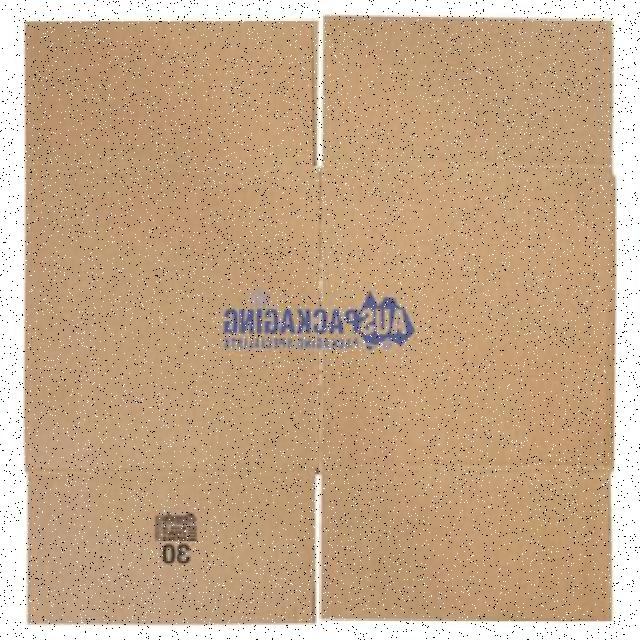normal: (331, 11, 617, 615)
